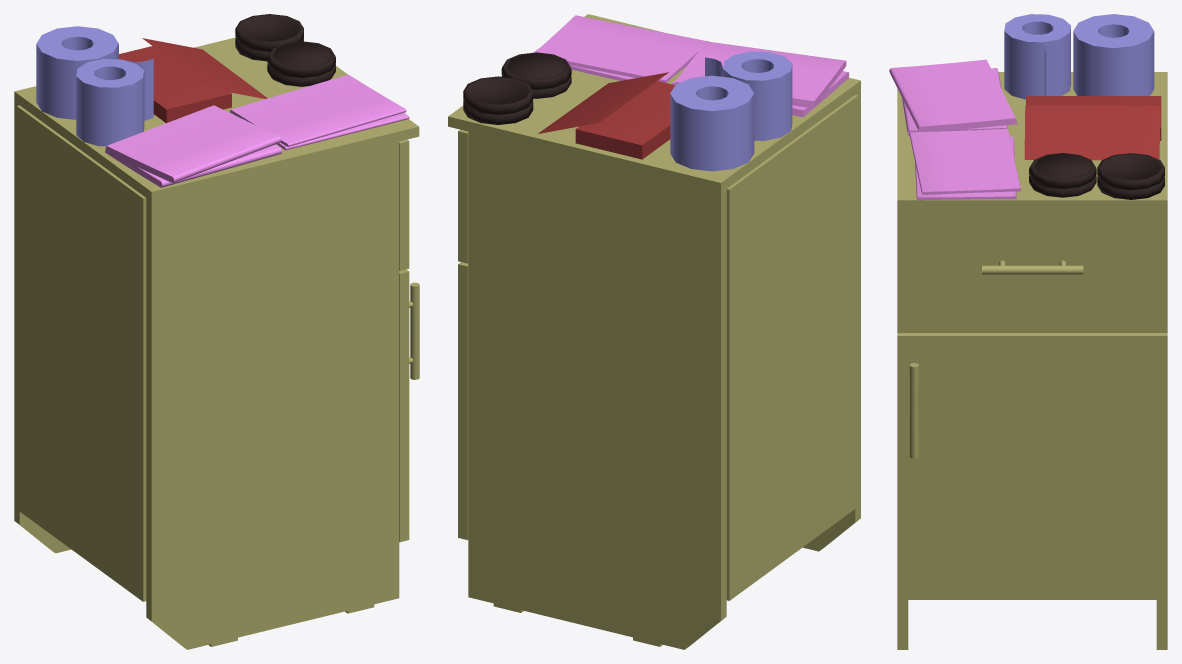
Rendered from BedsideTable.fbx.
The picture shows the model from 3 angles, left to right: view 1: azimuth 30°, elevation 25°; view 2: azimuth 150°, elevation 25°; view 3: azimuth 270°, elevation 25°; orthographic projection. The views are drawn at different scales.
Parts seen in each view (by area): view 1: Object021, Box053, Box052, Cylinder002, Cylinder001, Object023, Box050, Cylinder005, Box049, Cylinder006, Object022, Box047 (+1 smaller); view 2: Object021, Cylinder001, Box052, Box050, Cylinder002, Box053, Object023, Cylinder006, Box049, Cylinder005, Object022; view 3: Object023, Object022, Object021, Box049, Box053, Cylinder001, Box052, Cylinder002, Cylinder006, Cylinder005, Box050, Box046 (+1 smaller).
Part boxes in pixels (x1=…): Object021: x1=14, y1=37, x2=419, y2=649; Box053: x1=105, y1=105, x2=281, y2=182; Box052: x1=230, y1=74, x2=406, y2=146; Cylinder002: x1=76, y1=58, x2=153, y2=146; Cylinder001: x1=36, y1=26, x2=118, y2=119; Object023: x1=399, y1=269, x2=419, y2=542; Box050: x1=119, y1=46, x2=231, y2=123; Cylinder005: x1=267, y1=41, x2=335, y2=86; Box049: x1=142, y1=38, x2=267, y2=98; Cylinder006: x1=235, y1=14, x2=303, y2=61; Object022: x1=399, y1=139, x2=409, y2=270; Box047: x1=105, y1=144, x2=281, y2=187; Object021: x1=448, y1=14, x2=860, y2=649; Cylinder001: x1=670, y1=75, x2=754, y2=171; Box052: x1=535, y1=15, x2=708, y2=82; Box050: x1=575, y1=81, x2=675, y2=159; Cylinder002: x1=705, y1=51, x2=792, y2=140; Box053: x1=674, y1=41, x2=846, y2=108; Object023: x1=458, y1=262, x2=468, y2=539; Cylinder006: x1=463, y1=76, x2=533, y2=124; Box049: x1=538, y1=72, x2=668, y2=133; Cylinder005: x1=501, y1=52, x2=571, y2=98; Object022: x1=458, y1=129, x2=468, y2=263; Object023: x1=897, y1=333, x2=1167, y2=599; Object022: x1=897, y1=210, x2=1167, y2=332; Object021: x1=897, y1=72, x2=1167, y2=649; Box049: x1=1024, y1=105, x2=1160, y2=160; Box053: x1=889, y1=59, x2=1017, y2=131; Cylinder001: x1=1073, y1=14, x2=1154, y2=95; Box052: x1=909, y1=128, x2=1021, y2=194; Cylinder002: x1=1004, y1=14, x2=1070, y2=99; Cylinder006: x1=1097, y1=153, x2=1164, y2=199; Cylinder005: x1=1029, y1=153, x2=1096, y2=197; Box050: x1=1026, y1=96, x2=1161, y2=140; Box046: x1=915, y1=136, x2=1016, y2=200.
Bounding box in the file's own units: 469 × 850 × 412.
